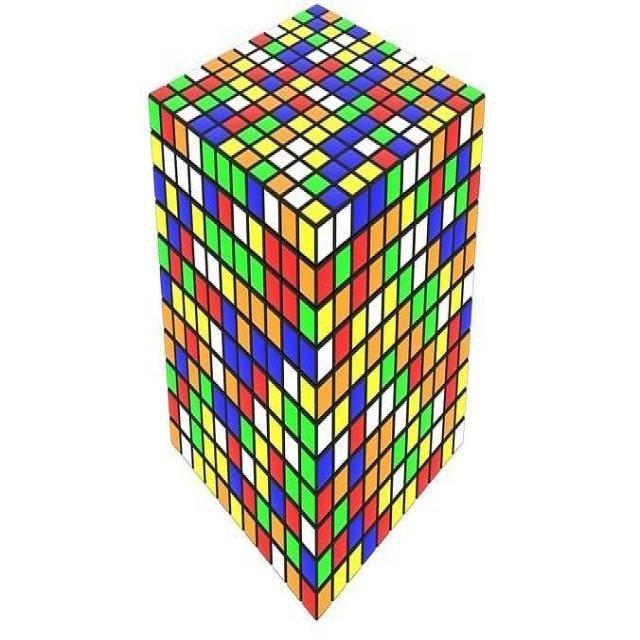Rub: (148, 4, 492, 619)
